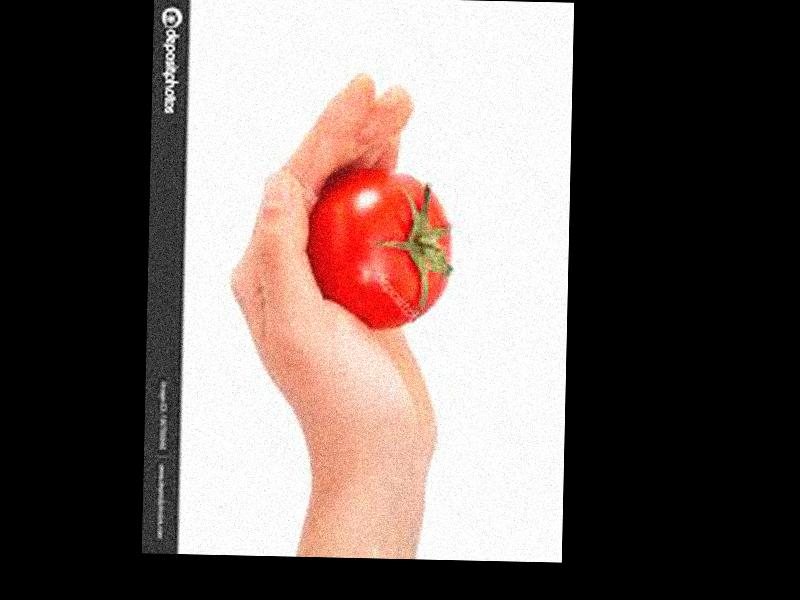Tomato: (308, 171, 451, 332)
